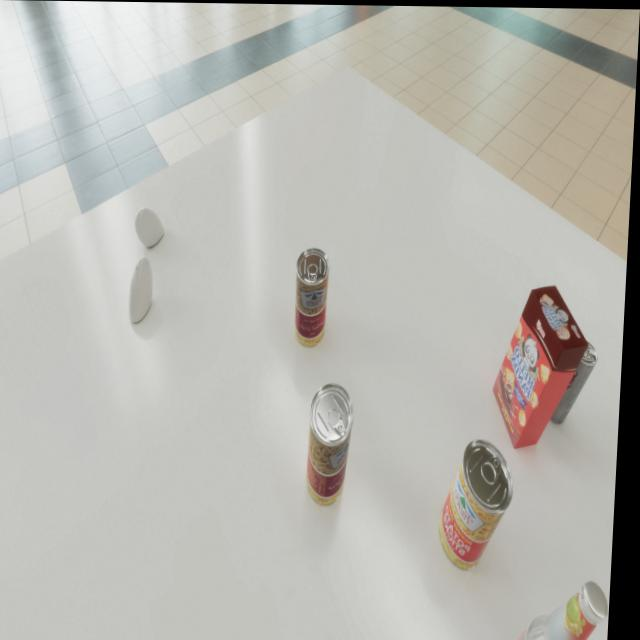HelloPanda: (495, 283, 595, 448)
Potato_sticks: (443, 437, 521, 570), (310, 382, 360, 506), (296, 247, 333, 347)
Rita_zero_sugar: (547, 336, 602, 423)
Salt: (131, 255, 157, 322), (136, 207, 168, 247)
